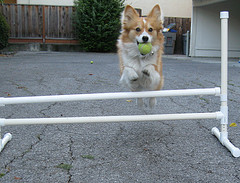tennis ball: (137, 39, 153, 56), (90, 60, 93, 65)
